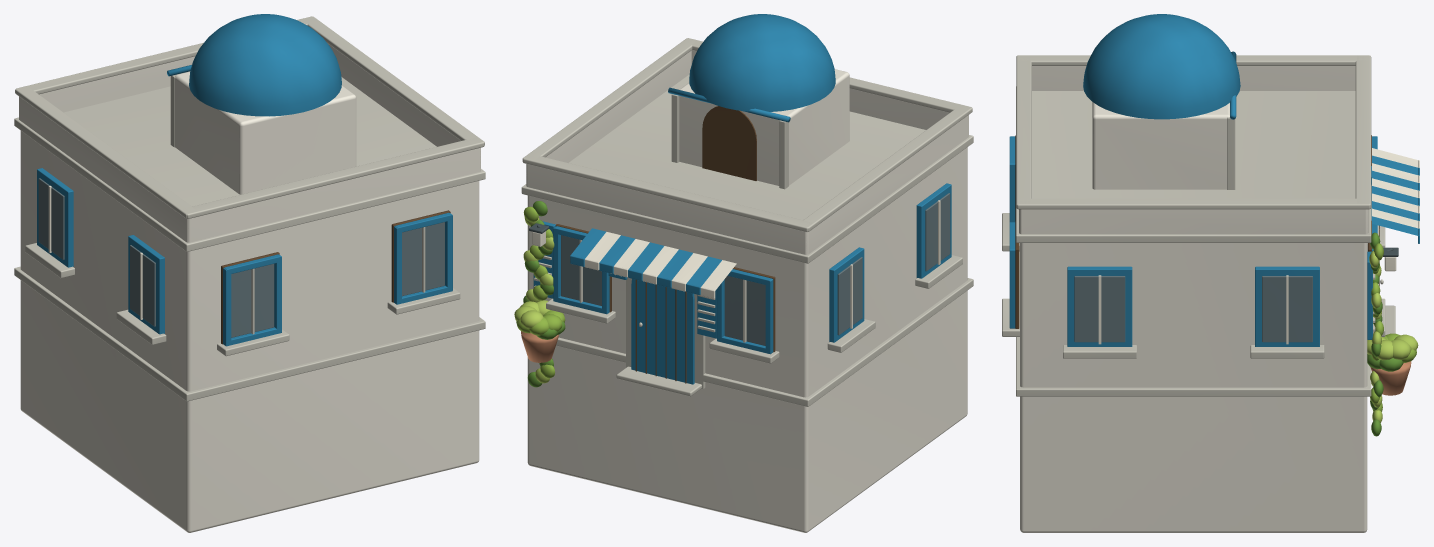
The model's file is town_house_1_2.glb.
3 renders of one model, left to right at view 1: azimuth 30°, elevation 25°; view 2: azimuth 150°, elevation 25°; view 3: azimuth 270°, elevation 25°, orthographic. The views are drawn at different scales.
Parts seen in each view (by area): view 1: TownHouse1_2_Geometry; view 2: TownHouse1_2_Geometry; view 3: TownHouse1_2_Geometry.
Part boxes in pixels (left/top/right/bottom): TownHouse1_2_Geometry: left=14, top=14, right=485, bottom=532; TownHouse1_2_Geometry: left=514, top=14, right=973, bottom=532; TownHouse1_2_Geometry: left=1002, top=14, right=1419, bottom=532.
Size of the model in its own units: 6.62 by 8.36 by 7.22.
